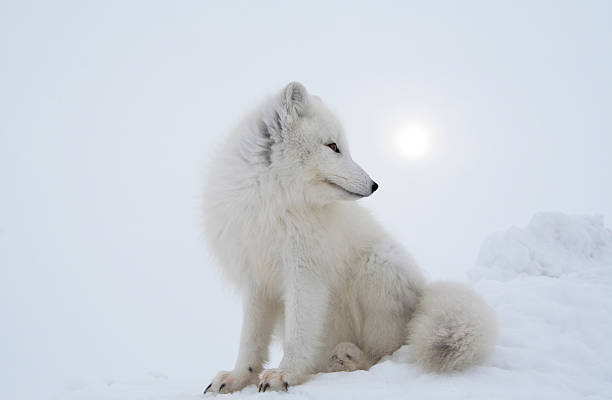arcticfox: (272, 104, 388, 213)
